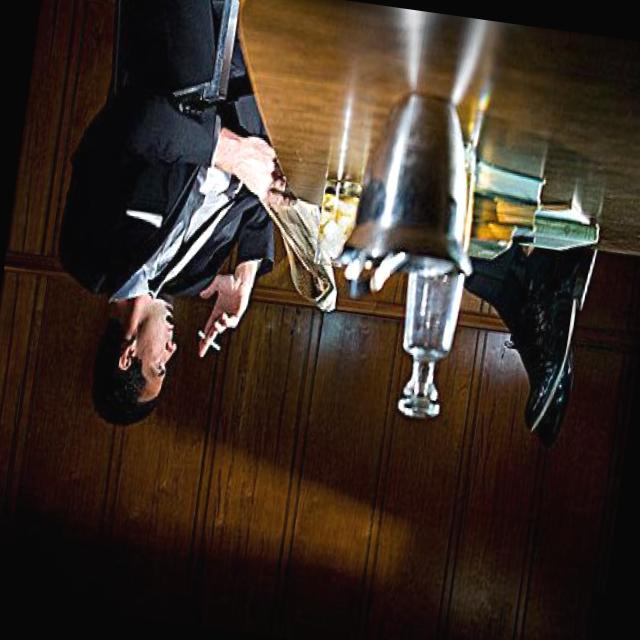cigarette: (192, 323, 226, 358)
